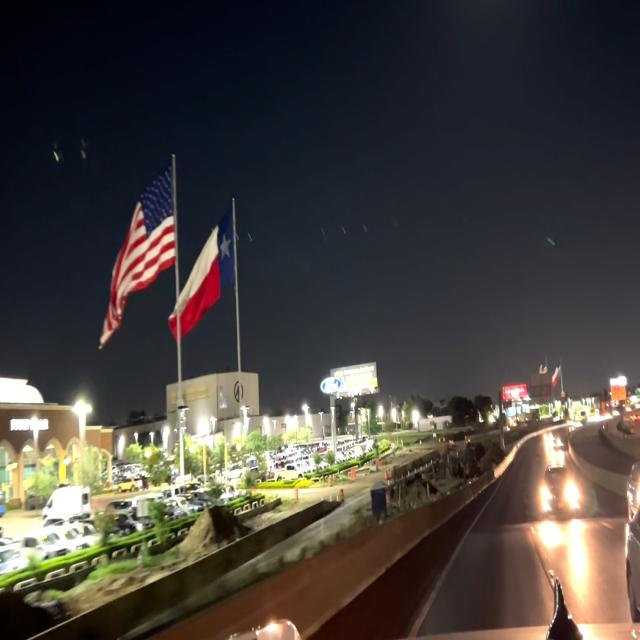back-of-sign: (524, 370, 556, 409)
